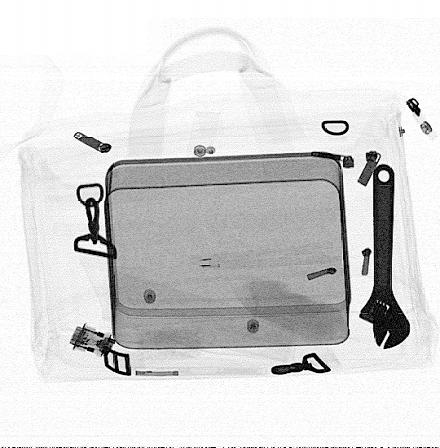Wrench: (358, 161, 411, 350)
